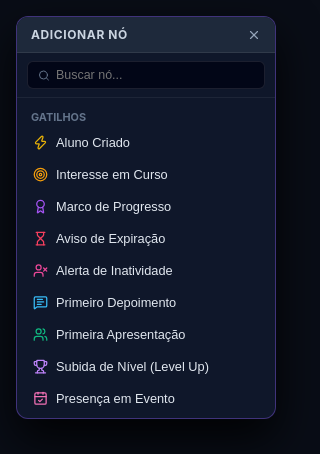
Test: FunnelNodeMenu Component › permite buscar nós e filtra os resultados corretamente
Type "Webhook" into the field with placeholder "Buscar nó..." at (155, 75), box left=56, top=68, right=254, bottom=82
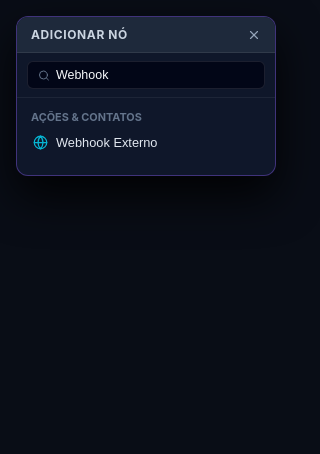
Now the text "Webhook Externo" is shown, box left=56, top=135, right=158, bottom=150
Now the button "Aluno Criado" is gone
